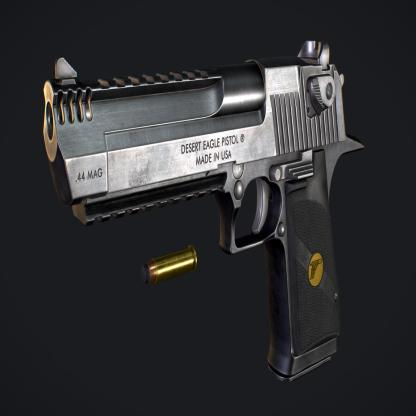handgun: (40, 42, 350, 383)
